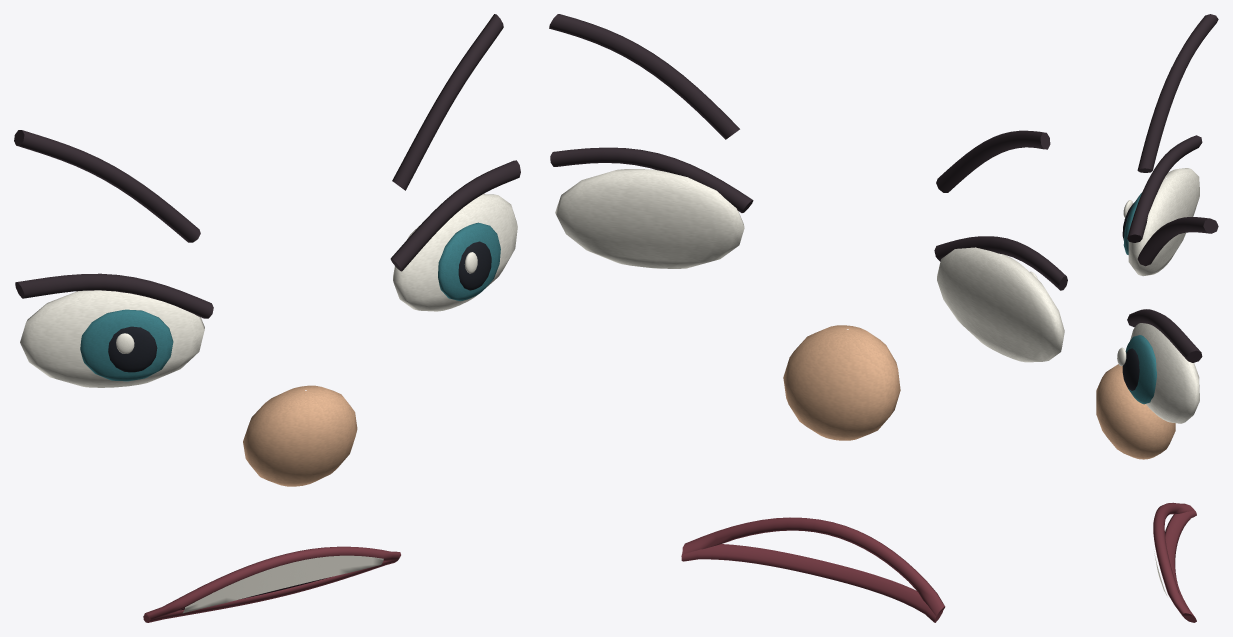
Rendered from face_determined.gltf.
3 renders of one model, left to right at view 1: azimuth 30°, elevation 25°; view 2: azimuth 150°, elevation 25°; view 3: azimuth 270°, elevation 25°, orthographic. The views are drawn at different scales.
Visible parts, largest first — view 1: Determined; view 2: Determined; view 3: Determined.
Part boxes in pixels (box(x1,y1,x2,y2)): Determined: box(14, 14, 520, 622); Determined: box(549, 14, 1067, 622); Determined: box(1096, 14, 1218, 622).
Size of the model in its own units: 0.2654 by 0.2608 by 0.0637.
Materials: 7 (7 with a texture image).
